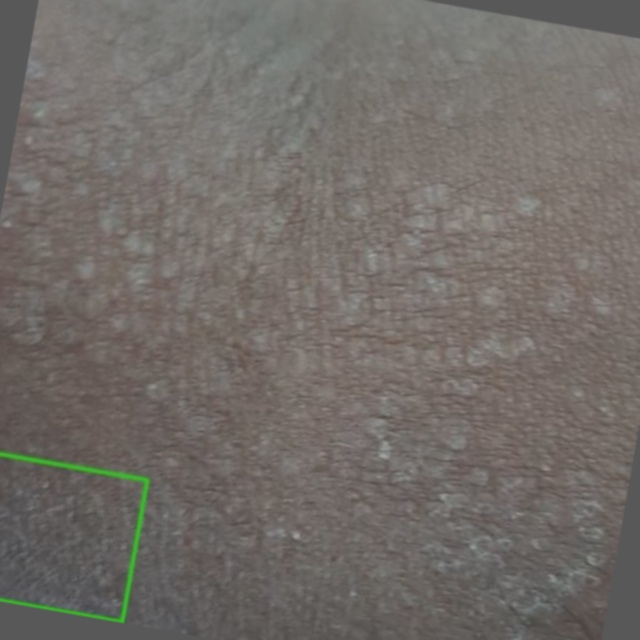Atopic Dermatitis: (0, 454, 148, 622)
